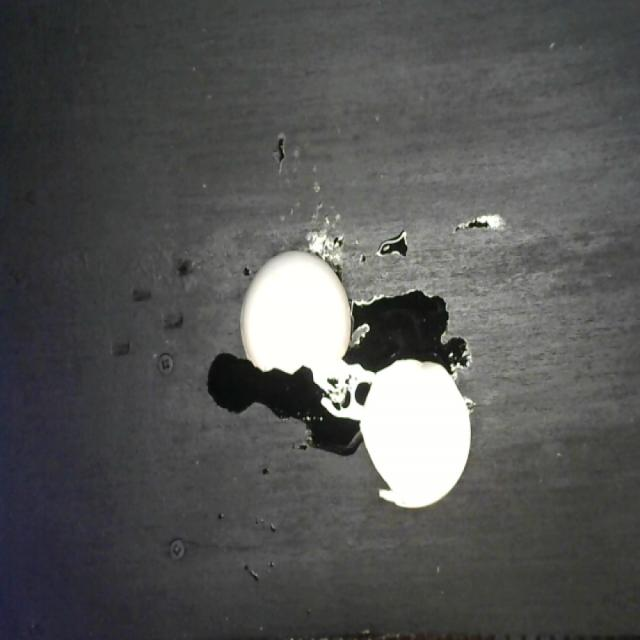biodegradable: (233, 240, 485, 516)
